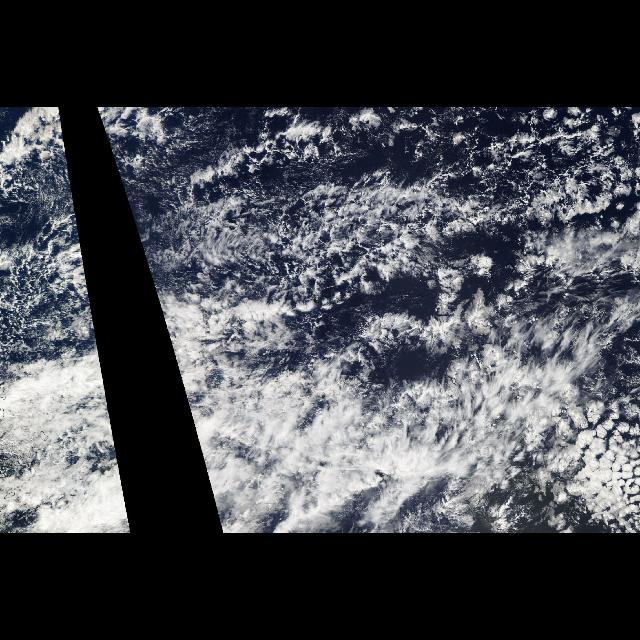Fish: (95, 107, 620, 503), (0, 107, 102, 363)
Flower: (481, 109, 639, 285), (555, 392, 639, 534)
